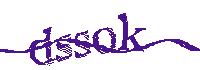d: (30, 27, 54, 67)
k: (117, 13, 146, 52)
o: (93, 27, 116, 55)
s: (55, 33, 73, 62), (73, 29, 91, 58)
